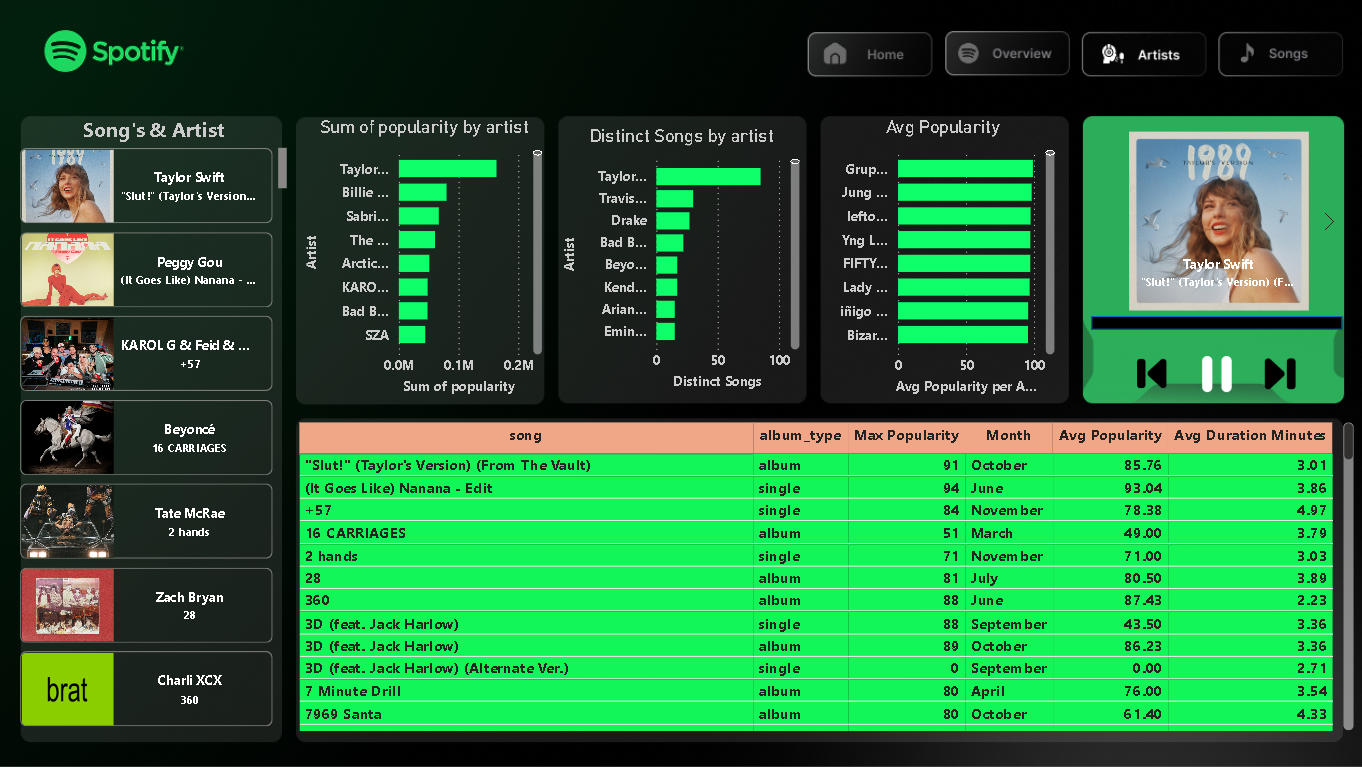

This screenshot's page, from the dashboard's own definition file:
{"tool":"powerbi","page":{"name":"Artist","canvas":[1280,720],"ordinal":2},"visuals":[{"type":"actionButton","box":[758.8,33,117.4,38.4],"z":0},{"type":"actionButton","box":[885.6,34.2,117.4,38.4],"z":1},{"type":"actionButton","box":[1014.7,35.3,117.4,38.4],"z":2},{"type":"actionButton","box":[1142.6,35.3,117.4,38.4],"z":3},{"type":"advancedSlicerVisual","title":"Song''s & Artist","fields":{"Values":["Top-50-world.song"]},"box":[18.6,111.6,258.1,576.7],"z":4},{"type":"advancedSlicerVisual","title":"Song''s & Artist","fields":{"Values":["Top-50-world.song"]},"box":[1019.8,119.3,237.2,179.1],"z":5},{"type":"shape","box":[1019.8,297.2,233.7,12.8],"z":6},{"type":"image","box":[1116.3,334.4,40.7,33.7],"z":7},{"type":"image","box":[1179.1,327.4,32.6,47.7],"z":8},{"type":"image","box":[1060.5,326.3,31.4,48.8],"z":9},{"type":"clusteredBarChart","fields":{"Category":["Top-50-world.artist"],"Y":["Sum(Top-50-world.popularity)"]},"box":[284.9,111.6,229.1,264],"z":10},{"type":"clusteredBarChart","fields":{"Category":["Top-50-world.artist"],"Y":["_Measure.Distinct Songs"]},"box":[524.4,119.8,229.1,251.2],"z":11},{"type":"clusteredBarChart","title":"Avg Popularity ","fields":{"Category":["Top-50-world.artist"],"Y":["_Measure.Avg Popularity per Artist"]},"box":[773.3,111.6,217.4,264],"z":12},{"type":"tableEx","fields":{"Values":["Top-50-world.song","Top-50-world.album_type","_Measure.Max Popularity","Top-50-world.release_date.Variation.Date Hierarchy.Month","_Measure.Avg Popularity","_Measure.Avg Duration Minutes"]},"box":[276.7,391.9,991.9,296.5],"z":13}]}

Visuals, with their boxes in screenshot pixels (x1, y1, x2, y2), scaled from the page's 1280x720 canvas onto the 1362x767 screenshot:
actionButton: [left=807, top=35, right=932, bottom=76]
actionButton: [left=942, top=36, right=1067, bottom=77]
actionButton: [left=1080, top=38, right=1205, bottom=79]
actionButton: [left=1216, top=38, right=1341, bottom=79]
"Song''s & Artist" advancedSlicerVisual: [left=20, top=119, right=294, bottom=733]
"Song''s & Artist" advancedSlicerVisual: [left=1085, top=127, right=1338, bottom=318]
shape: [left=1085, top=317, right=1334, bottom=330]
image: [left=1188, top=356, right=1231, bottom=392]
image: [left=1255, top=349, right=1289, bottom=400]
image: [left=1128, top=348, right=1162, bottom=400]
clusteredBarChart - Top-50-world.artist x Sum(Top-50-world.popularity): [left=303, top=119, right=547, bottom=400]
clusteredBarChart - Top-50-world.artist x _Measure.Distinct Songs: [left=558, top=128, right=802, bottom=395]
"Avg Popularity " clusteredBarChart: [left=823, top=119, right=1054, bottom=400]
tableEx - Top-50-world.song x Top-50-world.album_type: [left=294, top=417, right=1350, bottom=733]
